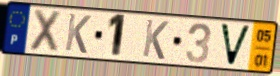1: (105, 13, 127, 61)
3: (184, 22, 213, 64)
K: (141, 18, 171, 62), (63, 12, 93, 56)
V: (218, 22, 253, 68)
X: (27, 7, 64, 55)
